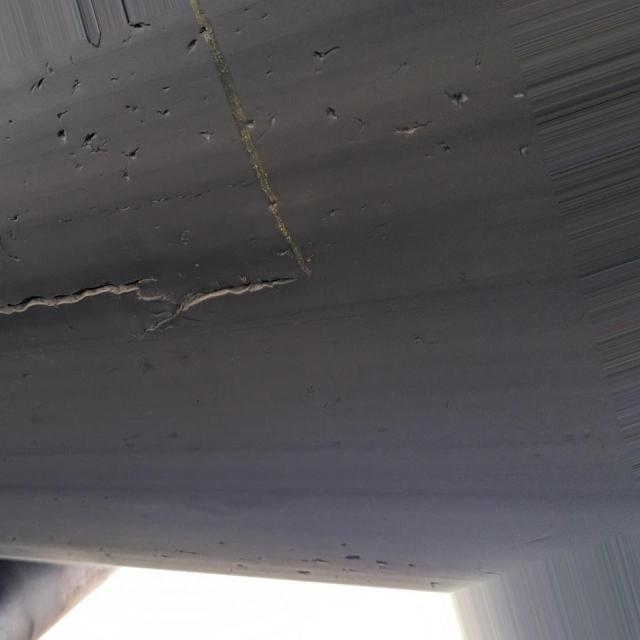Puncture: (38, 64, 177, 173), (285, 523, 444, 595), (310, 30, 359, 66), (391, 112, 434, 140), (448, 73, 475, 112), (328, 102, 344, 123)
Roller: (4, 559, 113, 640)
Tear: (0, 0, 320, 340)
